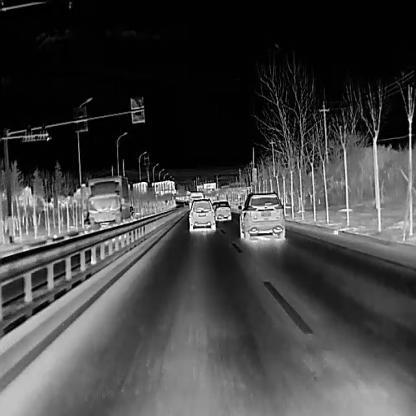car: (237, 189, 286, 242), (86, 173, 132, 229), (187, 197, 215, 233), (214, 200, 231, 221), (188, 191, 203, 211)
